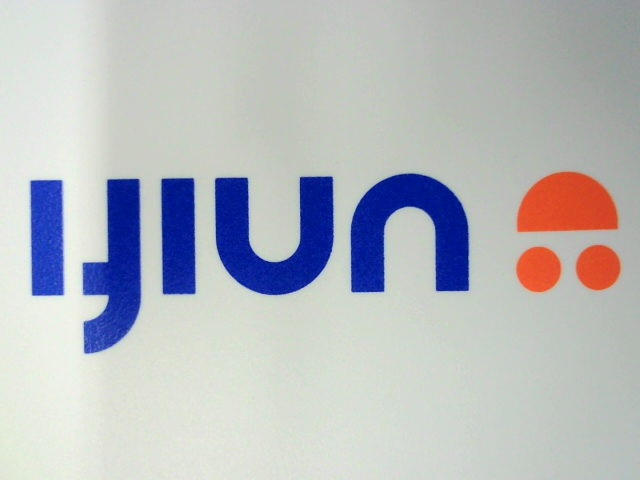BN_unifi: (19, 166, 626, 354)
